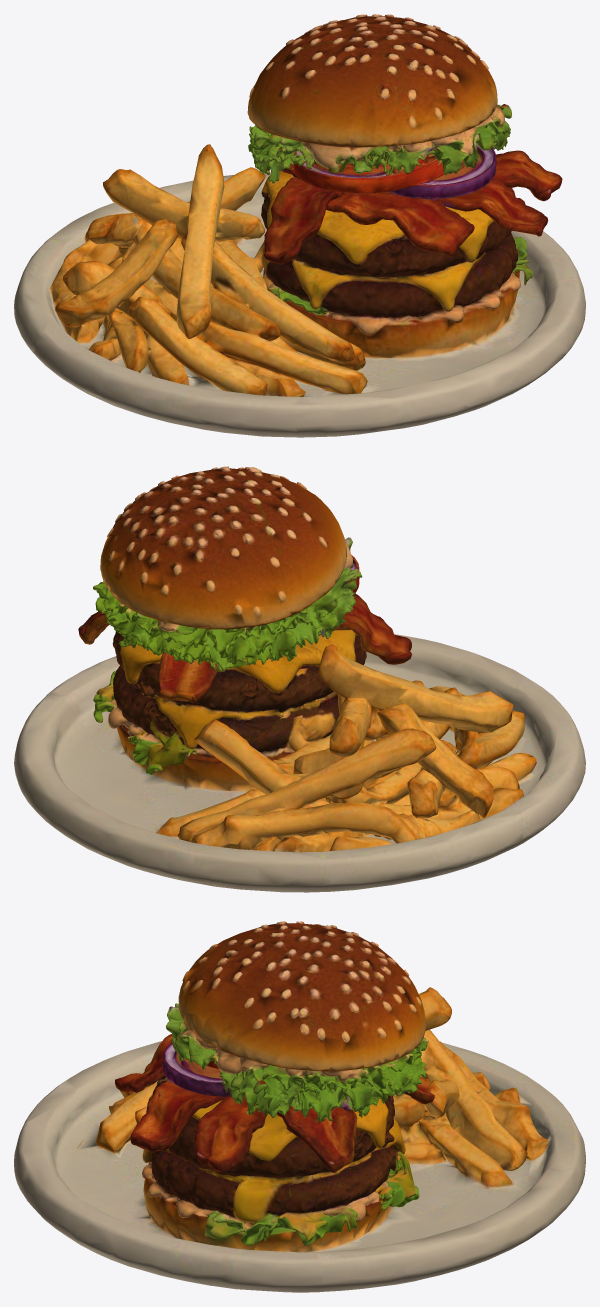
Rendered from burger.glb.
3 renders of one model, top to bottom at view 1: azimuth 30°, elevation 25°; view 2: azimuth 150°, elevation 25°; view 3: azimuth 270°, elevation 25°, orthographic.
Visible parts, largest first — view 1: mesh_node; view 2: mesh_node; view 3: mesh_node.
Boxes of the visible parts, <box> form: mesh_node: <box>14,14,585,437</box>; mesh_node: <box>14,466,585,892</box>; mesh_node: <box>14,921,585,1292</box>.
Size of the model in its own units: 1.9 by 1.07 by 1.9.
1 material, 1 textured.
